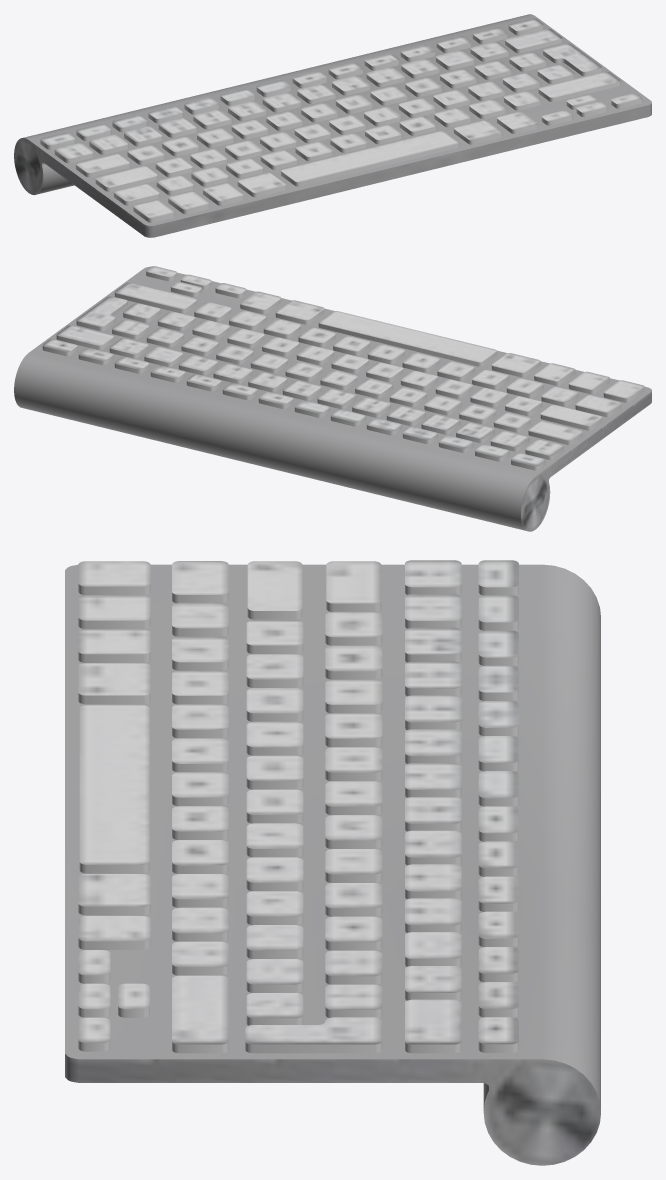
File: obj_apple_keyboard_8c8eb3.glb
The picture shows the model from 3 angles, top to bottom: view 1: azimuth 30°, elevation 25°; view 2: azimuth 150°, elevation 25°; view 3: azimuth 270°, elevation 25°; orthographic projection. The views are drawn at different scales.
Visible parts, largest first — view 1: obj_apple_keyboard_8c8eb3; view 2: obj_apple_keyboard_8c8eb3; view 3: obj_apple_keyboard_8c8eb3.
Boxes of the visible parts, box(x1,y1,x2,y2) form: obj_apple_keyboard_8c8eb3: box(14, 14, 651, 237); obj_apple_keyboard_8c8eb3: box(14, 266, 651, 531); obj_apple_keyboard_8c8eb3: box(65, 560, 600, 1165).
Bounding box in the file's own units: 0.44 × 0.0477 × 0.2016.
1 material, 1 textured.
